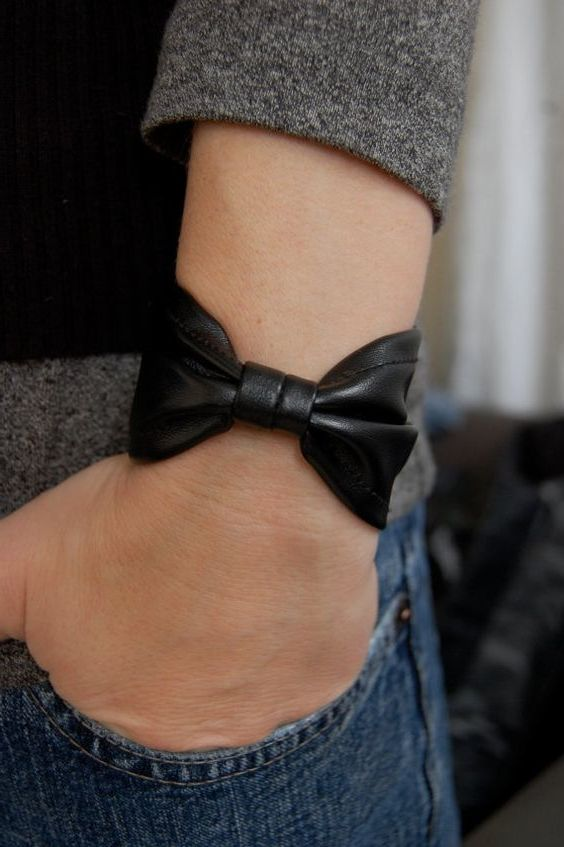cuero: (124, 281, 423, 531)
